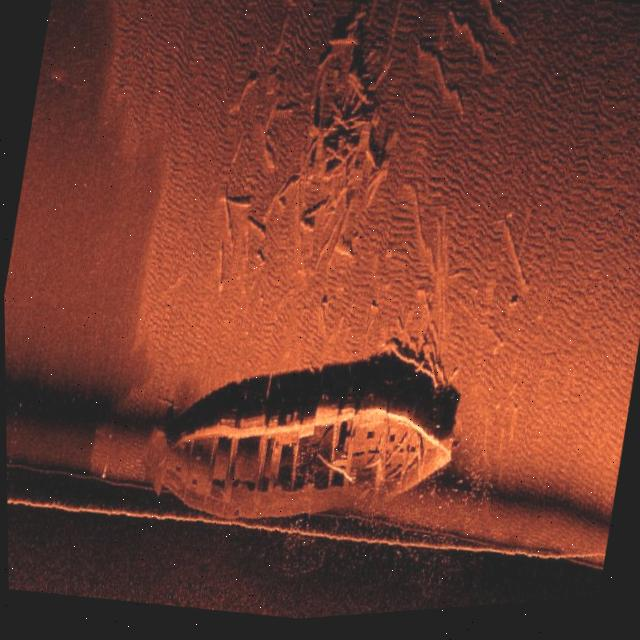shipwreck: (129, 344, 470, 565)
